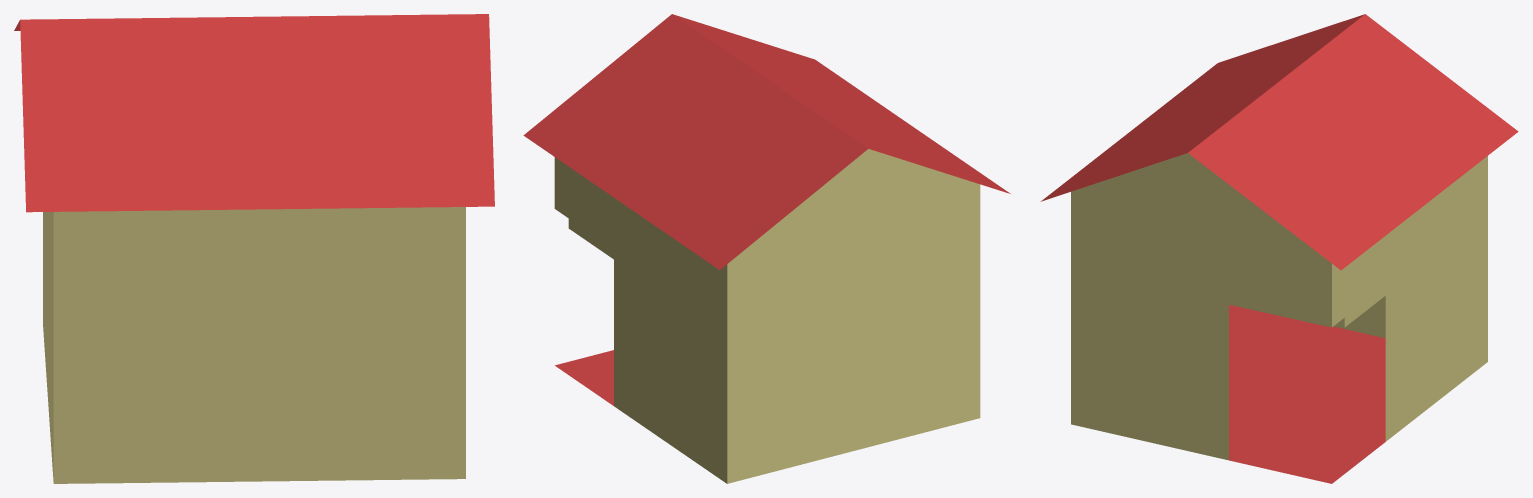
The picture shows the model from 3 angles, left to right: view 1: azimuth 30°, elevation 25°; view 2: azimuth 150°, elevation 25°; view 3: azimuth 270°, elevation 25°; orthographic projection. The views are drawn at different scales.
Bounding box in the file's own units: 16.32 × 15.89 × 11.32.
